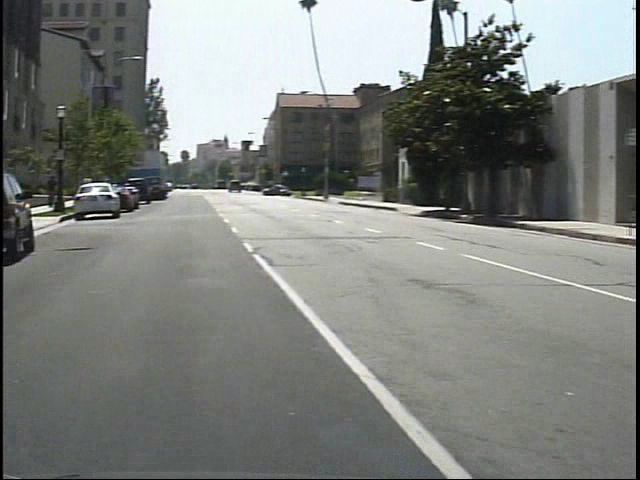person: (38, 173, 50, 210)
